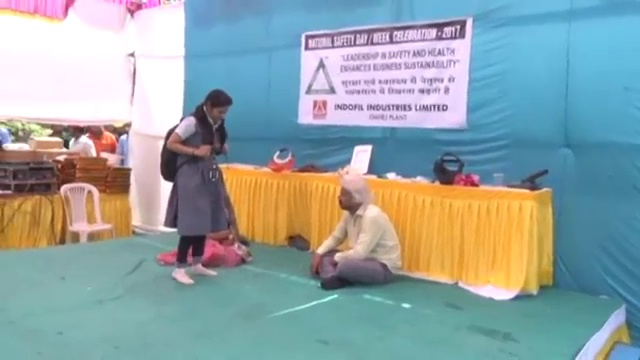helmet_off: (204, 91, 232, 125), (338, 178, 364, 212)
person: (158, 88, 232, 288), (310, 176, 406, 291), (199, 169, 251, 271), (88, 120, 117, 154), (69, 123, 95, 158), (118, 121, 133, 166), (49, 123, 69, 146)
